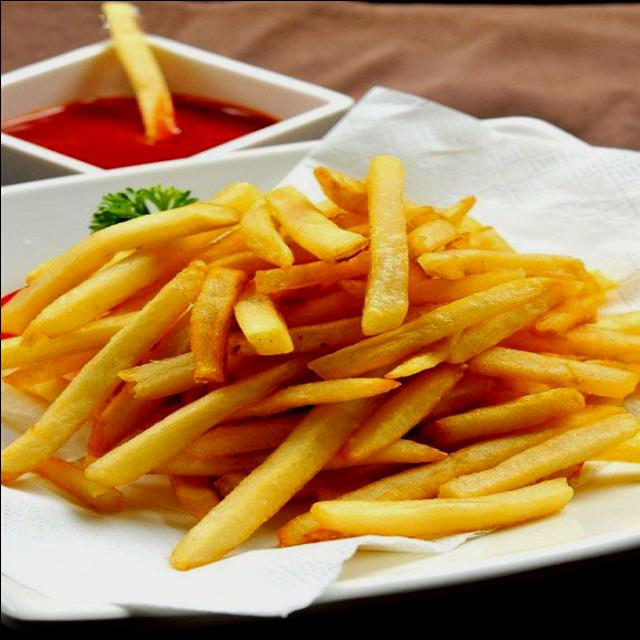kentang goreng: (0, 155, 640, 534)
